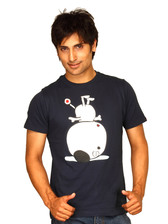clothoes: (22, 68, 149, 216)
